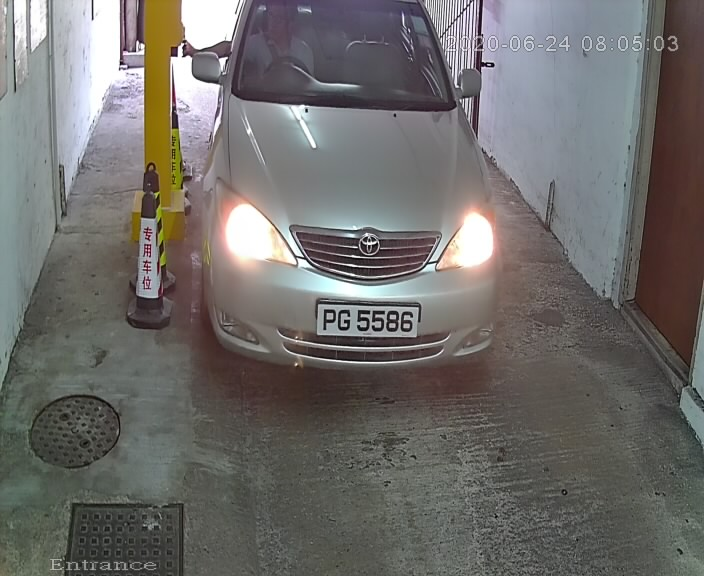privatecar: (184, 1, 528, 389)
